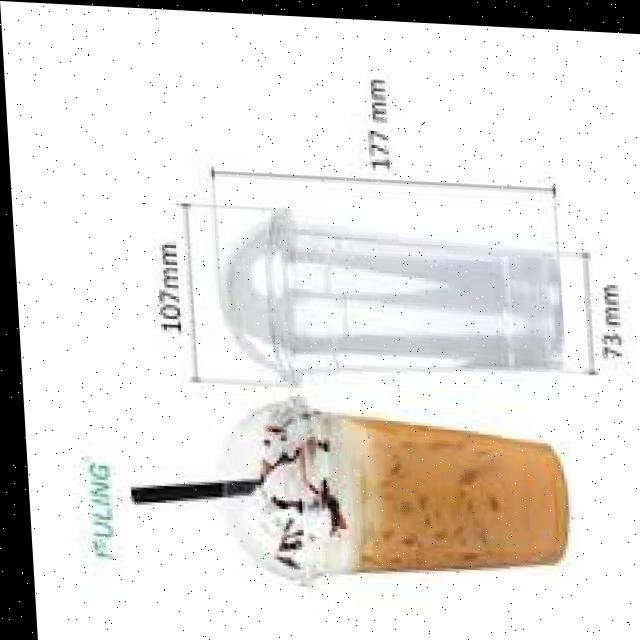cup: (247, 214, 555, 377), (336, 413, 560, 566)
